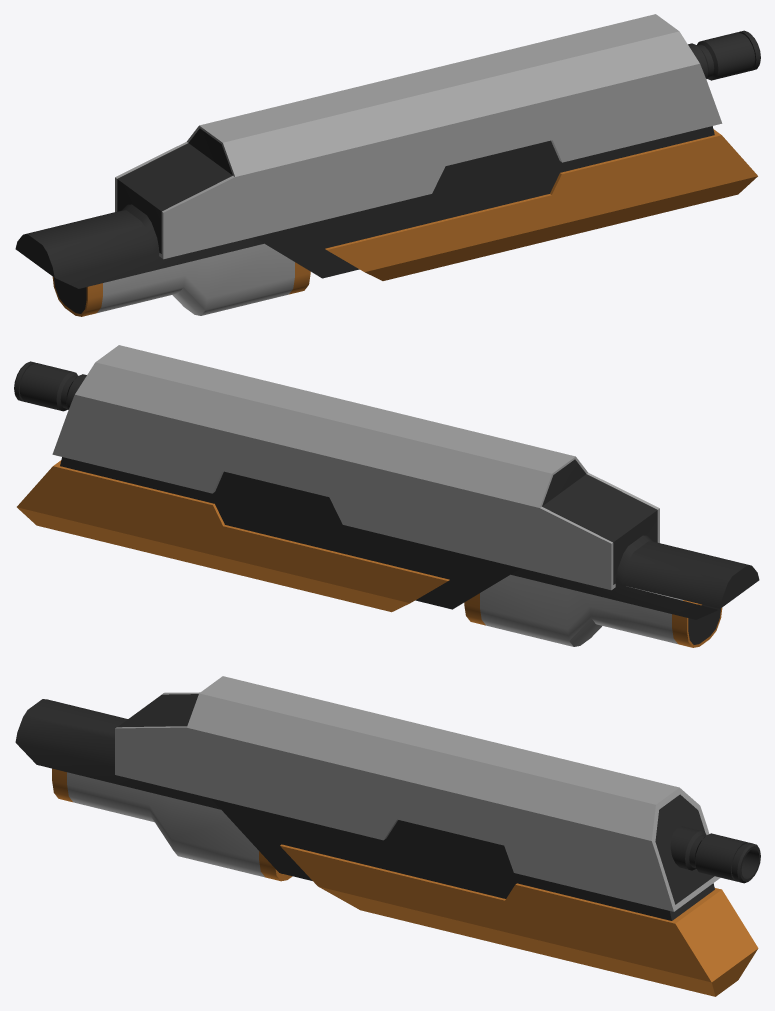
Rendered from Body_SMG_2.glb.
The picture shows the model from 3 angles, top to bottom: view 1: azimuth 30°, elevation 25°; view 2: azimuth 150°, elevation 25°; view 3: azimuth 330°, elevation 25°; orthographic projection.
Visible parts, largest first — view 1: Body_SMG_2; view 2: Body_SMG_2; view 3: Body_SMG_2.
Part boxes in pixels (box(x1,y1,x2,y2)): Body_SMG_2: box(15, 14, 760, 316); Body_SMG_2: box(14, 345, 759, 647); Body_SMG_2: box(15, 676, 760, 996).
Bounding box in the file's own units: 1.5 × 0.3561 × 0.176.
